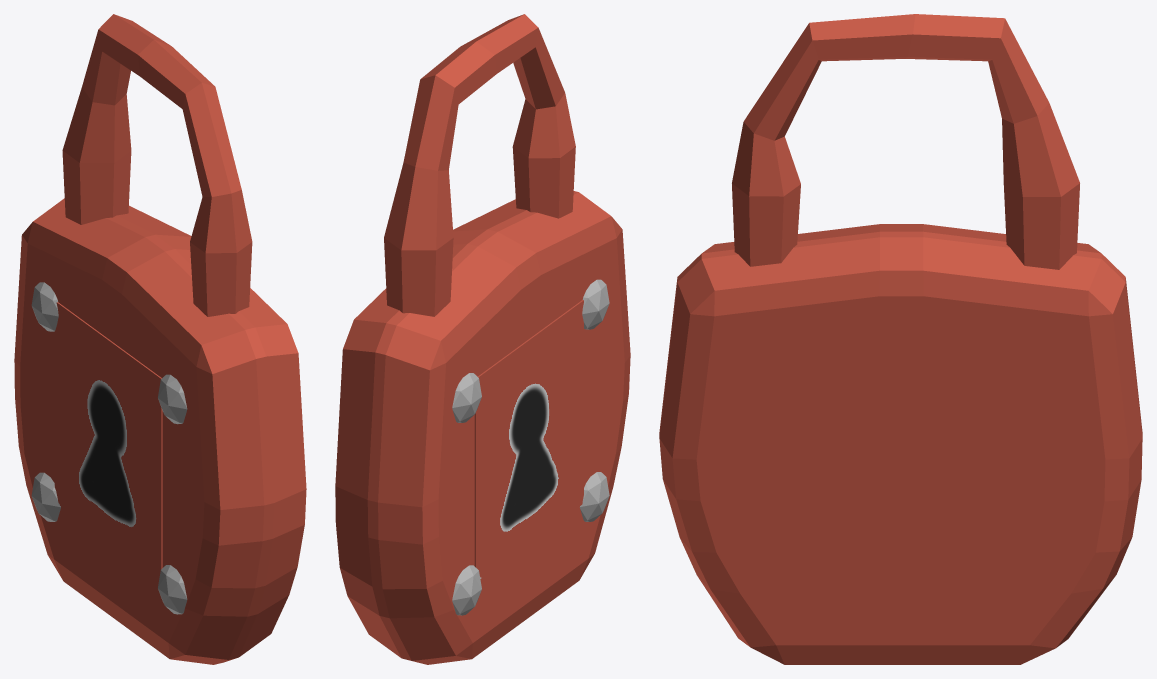
Rendered from lock.obj.
3 views of the same model, side by side, from view 1: azimuth 30°, elevation 25°; view 2: azimuth 150°, elevation 25°; view 3: azimuth 270°, elevation 25° (orthographic). The views are drawn at different scales.
Visible parts, largest first — view 1: Cylinder, Cube, Icosphere.002, Icosphere, Icosphere.003, Icosphere.001; view 2: Cylinder, Cube, Icosphere.003, Icosphere.001, Icosphere.002, Icosphere; view 3: Cylinder.
Part boxes in pixels (left/top/right/bottom): Cylinder: left=14, top=14, right=306, bottom=664; Cube: left=54, top=302, right=162, bottom=577; Icosphere.002: left=158, top=565, right=187, bottom=614; Icosphere: left=158, top=374, right=187, bottom=424; Icosphere.003: left=31, top=472, right=60, bottom=521; Icosphere.001: left=31, top=282, right=58, bottom=331; Cylinder: left=335, top=14, right=630, bottom=664; Cube: left=474, top=300, right=583, bottom=578; Icosphere.003: left=452, top=565, right=481, bottom=615; Icosphere.001: left=452, top=373, right=481, bottom=422; Icosphere.002: left=580, top=472, right=609, bottom=521; Icosphere: left=582, top=279, right=609, bottom=329; Cylinder: left=659, top=14, right=1142, bottom=664.
Bounding box in the file's own units: 1.99 × 10.25 × 7.02.
